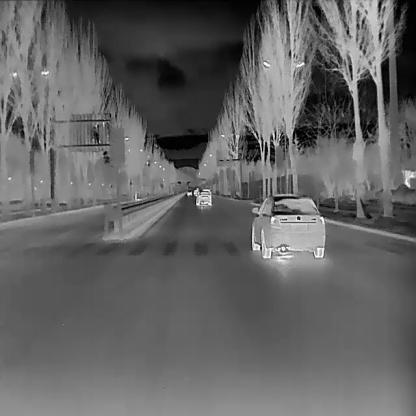car: (249, 192, 326, 258), (195, 189, 211, 205), (186, 189, 191, 195), (193, 189, 198, 195)
